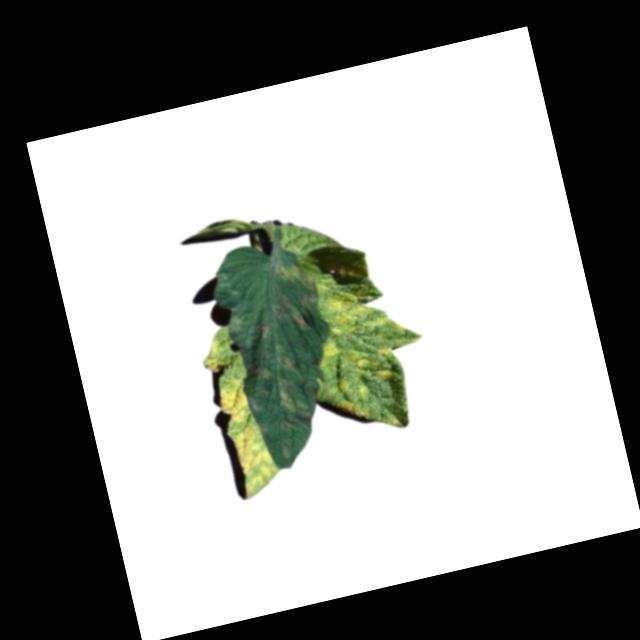Leaf_Mold: (289, 259, 442, 448), (233, 256, 352, 463), (198, 330, 283, 502)
